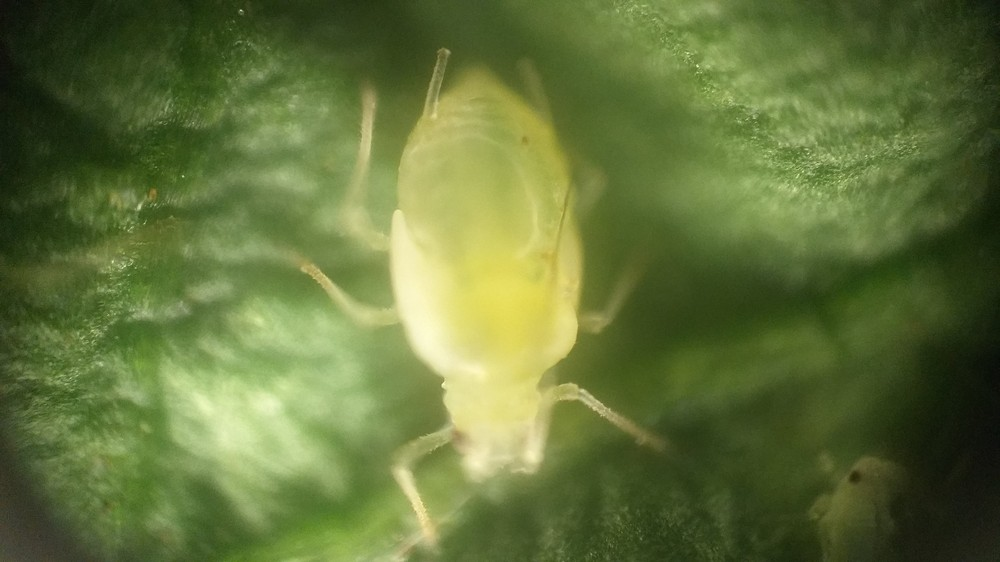Pulgon: (294, 44, 707, 546)
